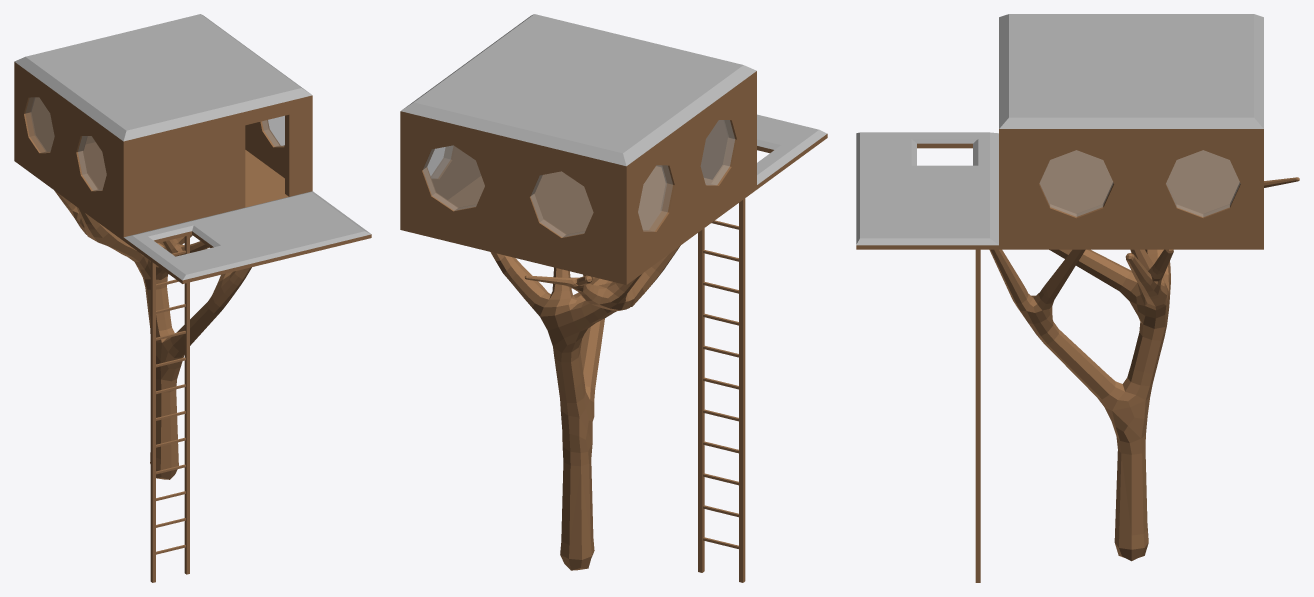
Rendered from Treehouse_1 Winter.fbx.
3 renders of one model, left to right at view 1: azimuth 30°, elevation 25°; view 2: azimuth 150°, elevation 25°; view 3: azimuth 270°, elevation 25°, orthographic. The views are drawn at different scales.
Parts seen in each view (by area): view 1: TreehouseWinter_mesh; view 2: TreehouseWinter_mesh; view 3: TreehouseWinter_mesh.
Boxes of the visible parts, x1,y1,x2,y2 form: TreehouseWinter_mesh: [14, 14, 371, 582]; TreehouseWinter_mesh: [400, 14, 827, 582]; TreehouseWinter_mesh: [856, 14, 1299, 582].
Bounding box in the file's own units: 493 × 1065 × 794.
